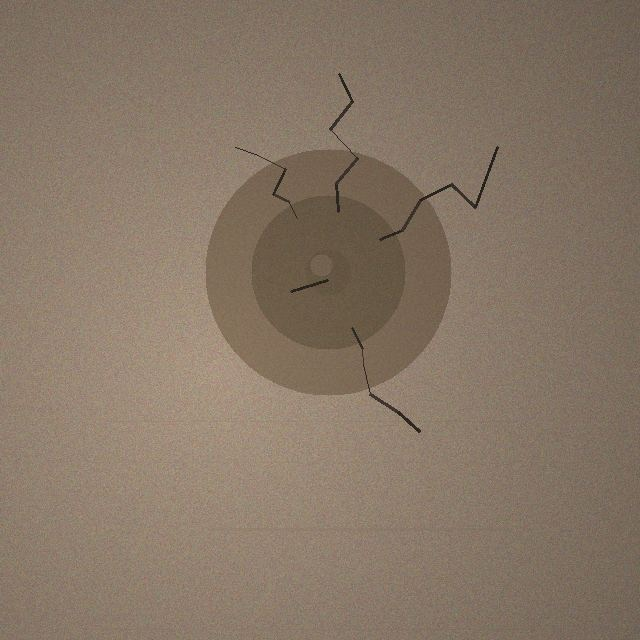crack: (205, 149, 451, 395)
